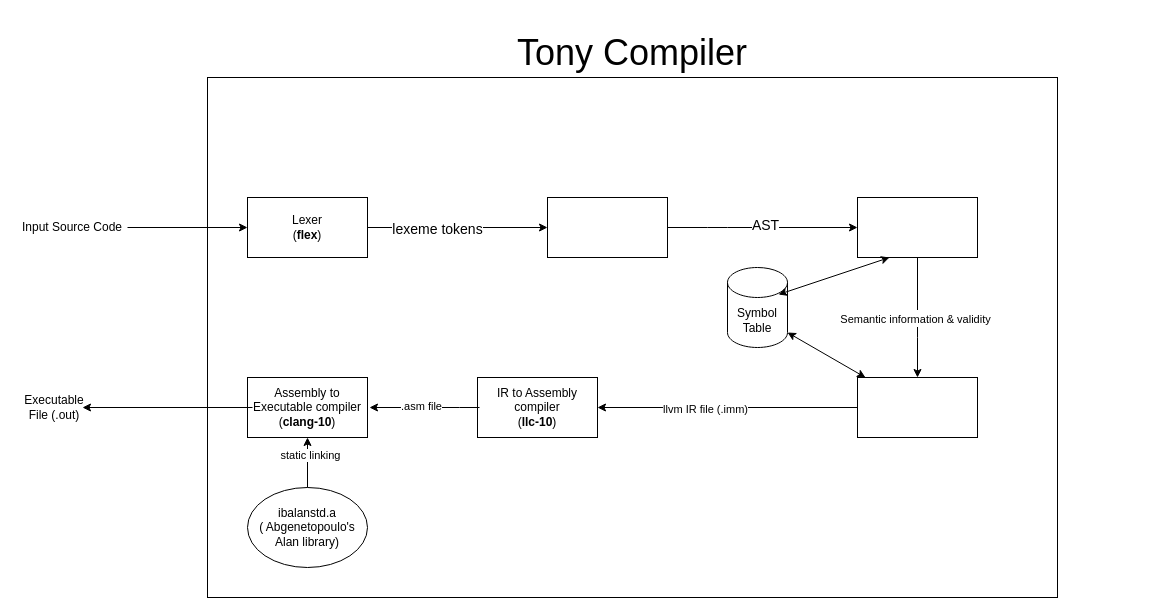
This 1168x615 diagram has some shape labels left out. Each missing label, with the centre of its shape:
IR Codegen ( llvm-10 ): the point at 917,407
Parser: the point at 607,227
Semantic Analysis: the point at 917,227
